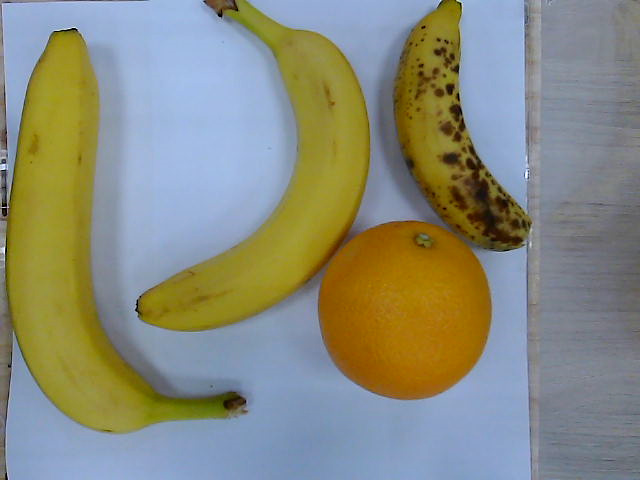fresh_banana: (139, 1, 370, 330), (6, 27, 162, 434)
fresh_orange: (317, 220, 493, 402)
rotten_banana: (395, 1, 535, 251)
